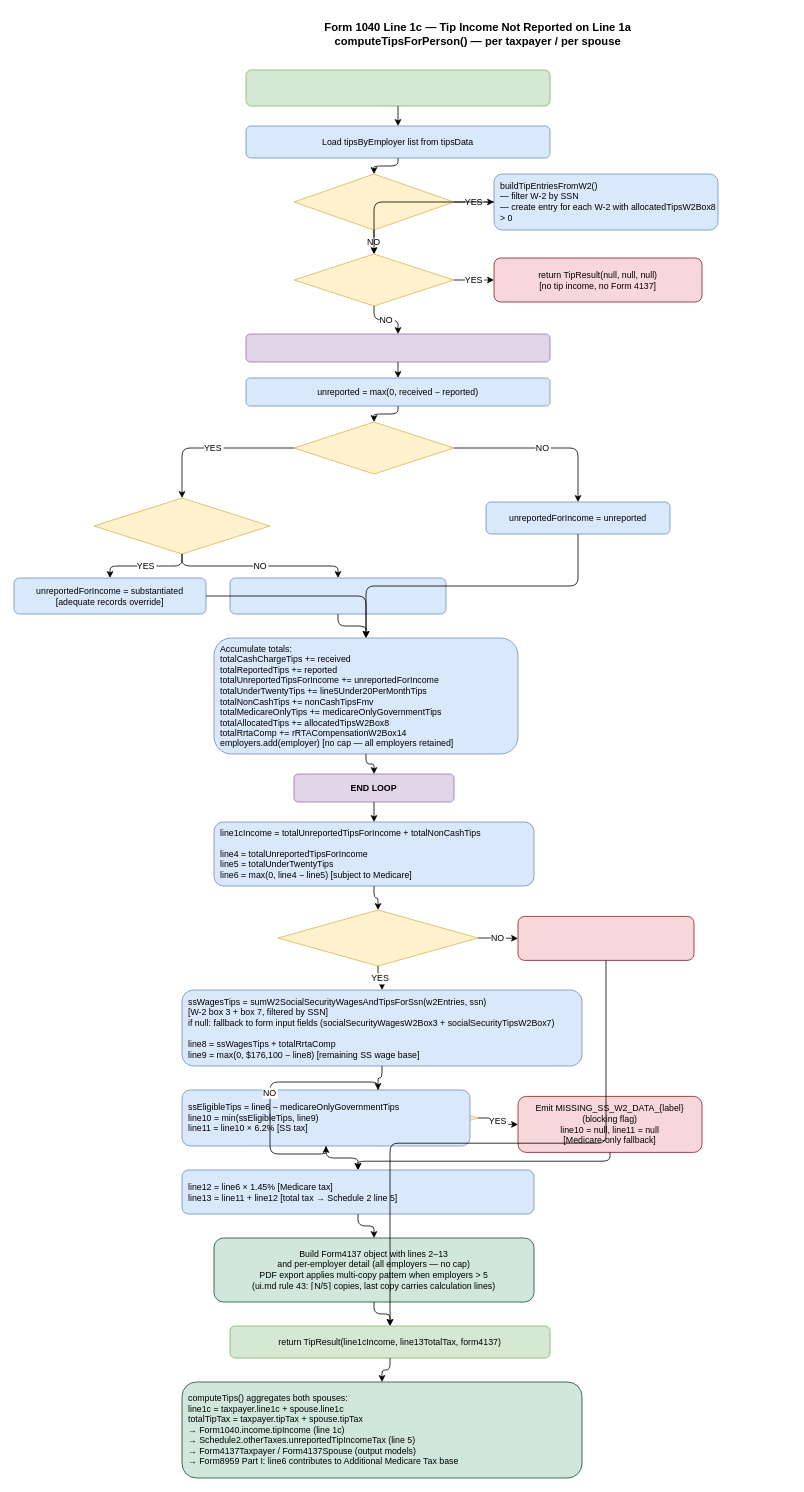
Some shapes in this 804 by 1492 pixel diagram are drawn without their labels. The centre of each missing label's shape, as x and y in pixels:
"allocatedTipsW2Box8 > 0?" belongs at point 373,447.
"entries still empty?" belongs at point 373,279.
"FOR EACH employer entry:" belongs at point 397,347.
"form4137 = null [all noncash or all under-$20]" belongs at point 605,938.
"hasAdequateRecords == true AND substantiated < allocated?" belongs at point 181,525.
"line4 > 0 AND (line6 > 0 OR allocatedTips > 0)?" belongs at point 377,937.
"START: computeTipsForPerson(tipsData, w2Entries, flags, label, ssn)" belongs at point 397,87.
"tipsByEmployer list empty?" belongs at point 373,201.
"unreportedForIncome = max(unreported, allocated) [allocated wins when higher]" belongs at point 337,595.
